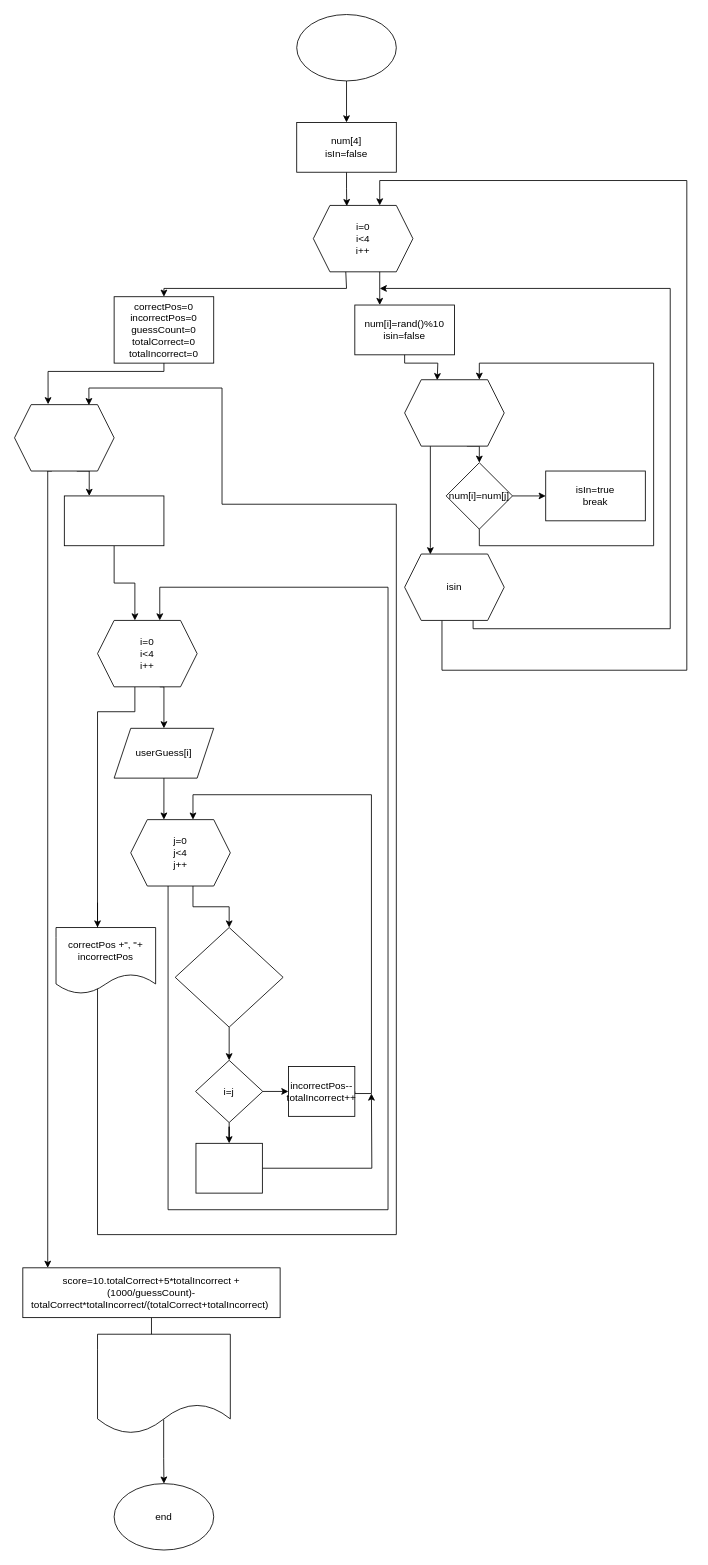
Some shapes in this 708 by 1565 pixel diagram are drawn without their labels. Each missing label, with the centre of its shape:
"You have guessed in:"+guessCount + "guesses Your Score Is" : score: point (163, 1383)
correctPos != 4: point (64, 437)
correctPos = 0 incorrectPos=0 userGuess[4] guessCount++: point (113, 520)
correctPos++ totalCorrect++: point (228, 1167)
j=0 j<i j++: point (454, 412)
start: point (346, 47)
userGuess[i]=num[j]: point (228, 977)
